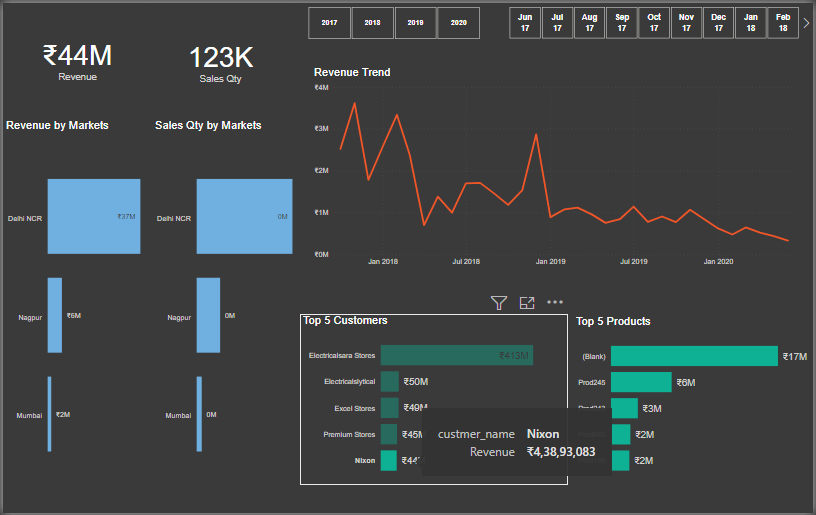

What the dashboard file says about the page in this screenshot:
{"tool":"powerbi","page":{"name":"Key Insights","canvas":[1350,850],"ordinal":0},"visuals":[{"type":"card","fields":{"Values":["BaseMeasures (2).Revenue"]},"box":[0,0,247.9,184.6],"z":0},{"type":"card","fields":{"Values":["BaseMeasures (2).Sales Qty"]},"box":[247.9,0,227.9,193.1],"z":1000},{"type":"barChart","title":"Revenue by Markets","fields":{"Y":["BaseMeasures (2).Revenue"],"Category":["sales markets.markets_name"]},"box":[0,193.1,247.9,631.9],"z":2000},{"type":"barChart","title":"Sales Qty by Markets","fields":{"Y":["BaseMeasures (2).Sales Qty"],"Category":["sales markets.markets_name"]},"box":[247.9,193.1,247.9,631.9],"z":3000},{"type":"slicer","fields":{"Values":["sales date.year"]},"box":[483.3,0,335,66.7],"z":4000},{"type":"slicer","fields":{"Values":["sales date.cy_date"]},"box":[818.6,0,531.7,66.5],"z":5000},{"type":"barChart","title":"Top 5 Customers","fields":{"Y":["BaseMeasures (2).Revenue"],"Category":["sales customers.custmer_name"]},"box":[495,518.3,446.7,285],"z":6000},{"type":"barChart","title":"Top 5 Products","fields":{"Y":["BaseMeasures (2).Revenue"],"Category":["sales products.product_code"]},"box":[950.7,519.2,399.5,282.8],"z":7000},{"type":"lineChart","title":"Revenue Trend","fields":{"Y":["BaseMeasures (2).Revenue"],"Category":["sales date.cy_date"]},"box":[513.3,105,825,341.7],"z":8000}]}

Visuals, with their boxes in screenshot pixels (x1, y1, x2, y2), scaled from the page's 1350x850 canvas onto the 816x515 screenshot:
card - BaseMeasures (2).Revenue: left=0, top=0, right=150, bottom=112
card - BaseMeasures (2).Sales Qty: left=150, top=0, right=288, bottom=117
"Revenue by Markets" barChart: left=0, top=117, right=150, bottom=500
"Sales Qty by Markets" barChart: left=150, top=117, right=300, bottom=500
slicer - sales date.year: left=292, top=0, right=495, bottom=40
slicer - sales date.cy_date: left=495, top=0, right=815, bottom=40
"Top 5 Customers" barChart: left=299, top=314, right=569, bottom=487
"Top 5 Products" barChart: left=575, top=315, right=815, bottom=486
"Revenue Trend" lineChart: left=310, top=64, right=809, bottom=271
